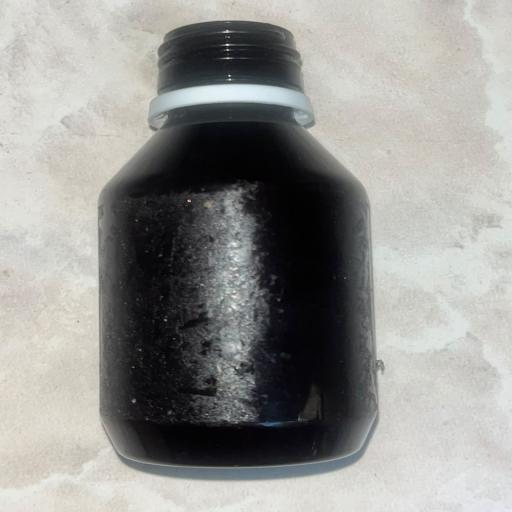HDPE: (72, 7, 440, 477)
